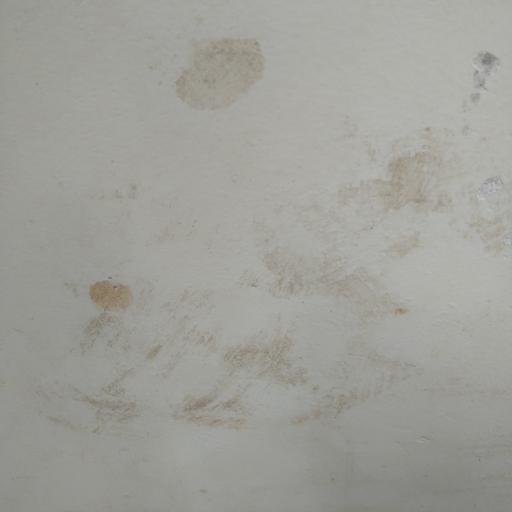stain: (16, 251, 445, 456), (268, 125, 512, 309), (134, 20, 296, 116), (450, 37, 512, 139)
